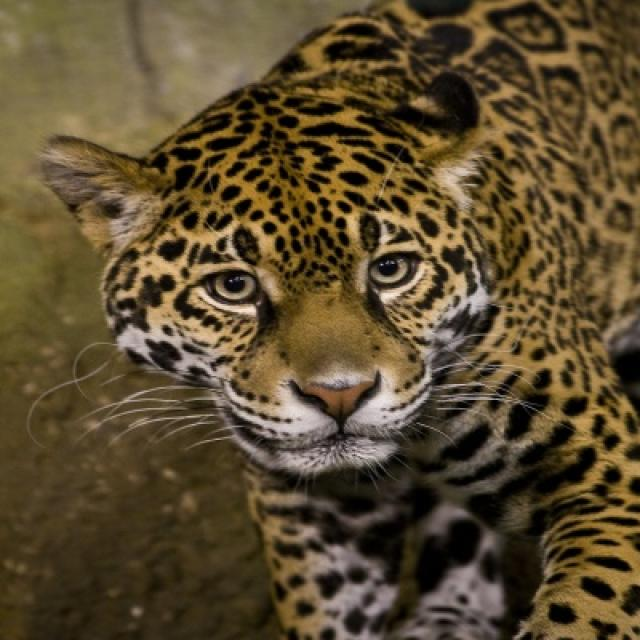Jaguar: (13, 0, 638, 638)
